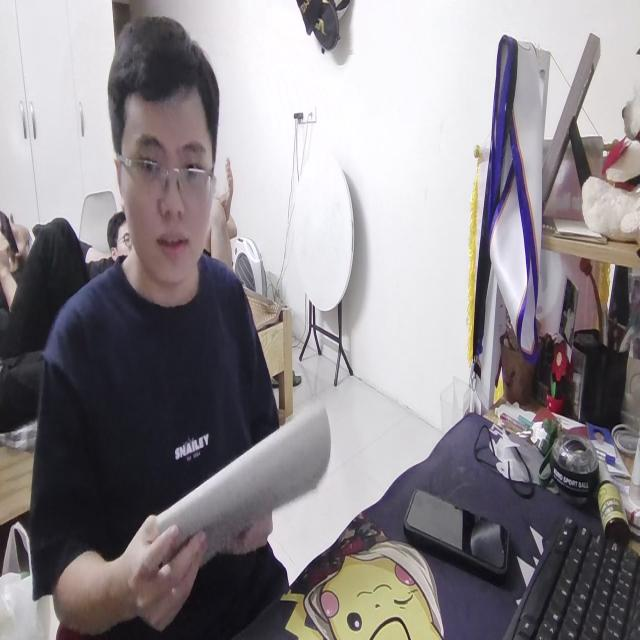book: (129, 396, 333, 574)
extra_person: (0, 202, 79, 422), (104, 208, 129, 260)
student: (26, 18, 296, 640)
